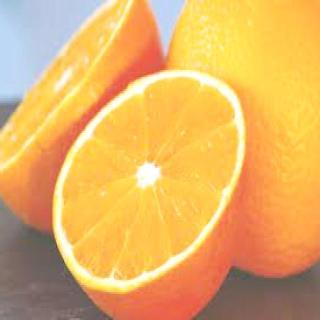orange: (36, 59, 251, 320), (161, 0, 320, 285), (2, 2, 170, 243)
